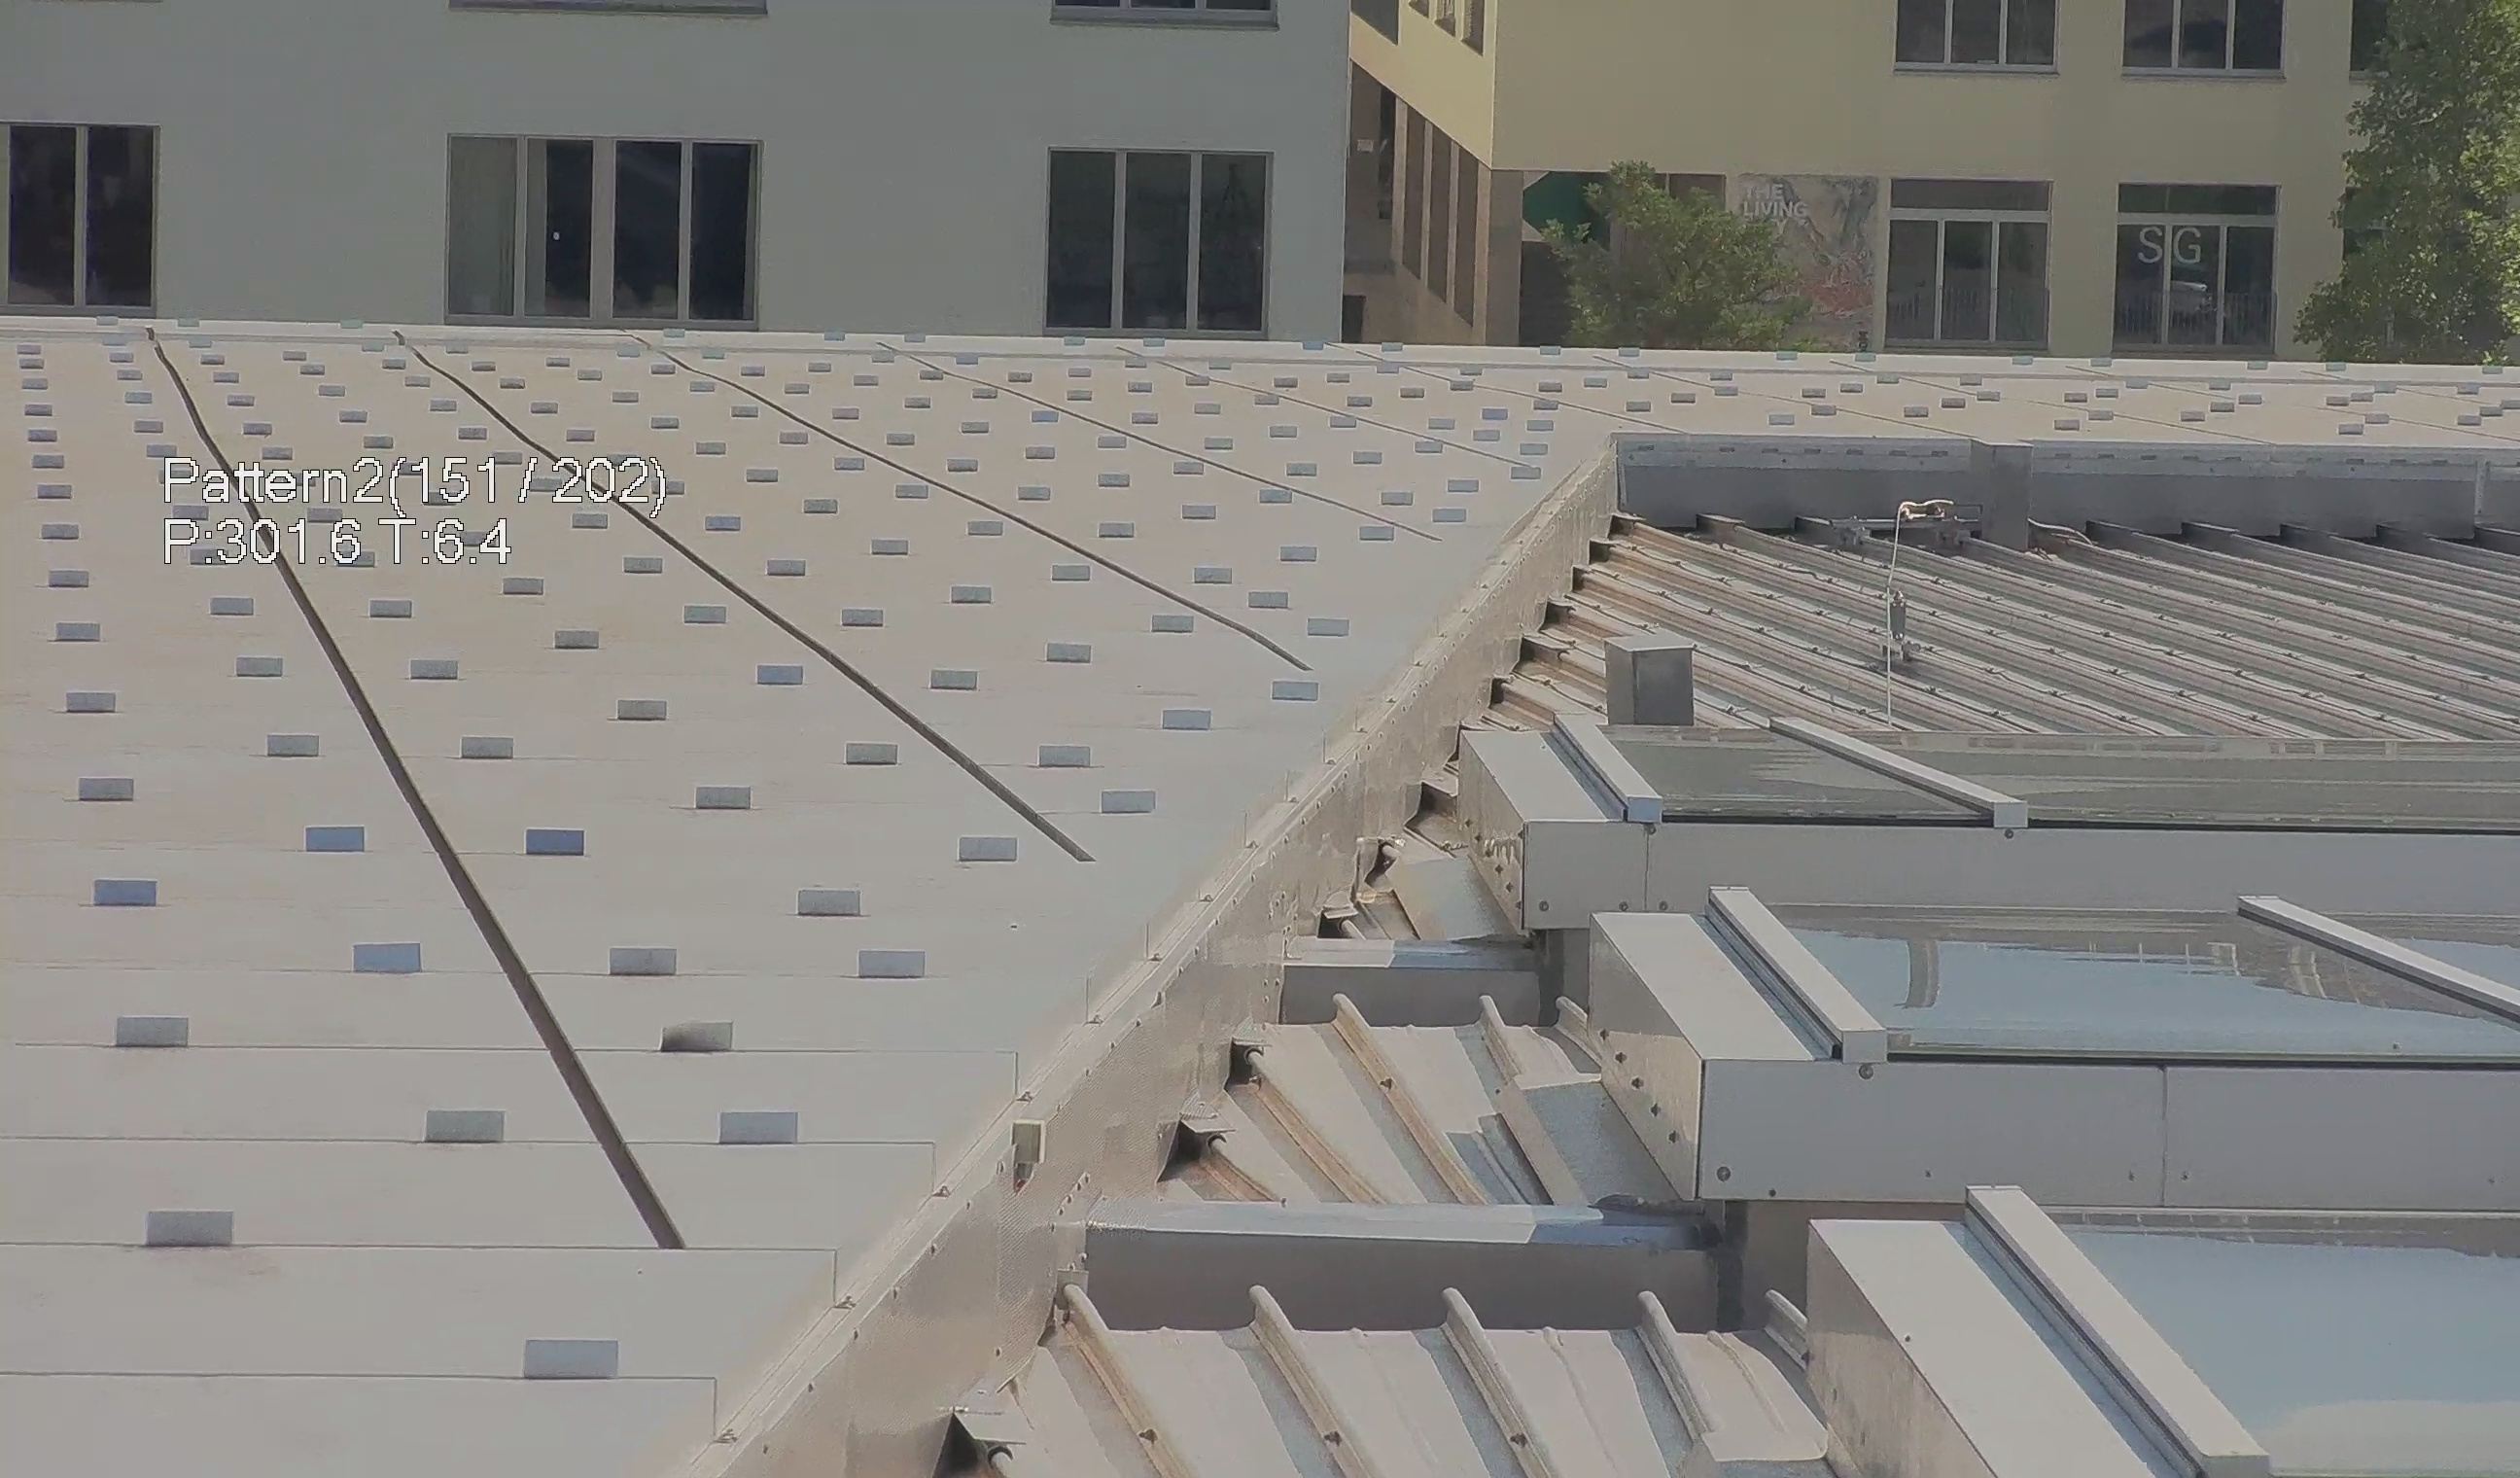Other: (1150, 1108, 1252, 1207)
